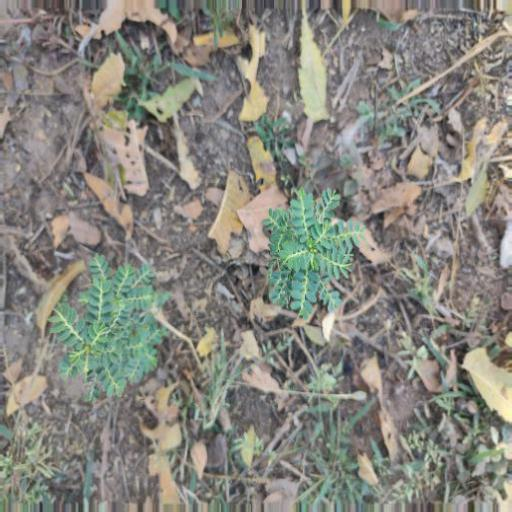weed: (49, 255, 177, 406), (253, 191, 377, 330)
